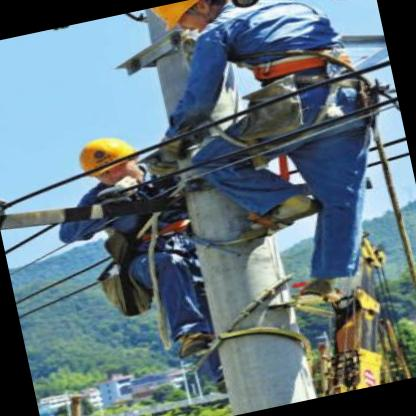helmet: (65, 126, 148, 196), (145, 0, 239, 42)
